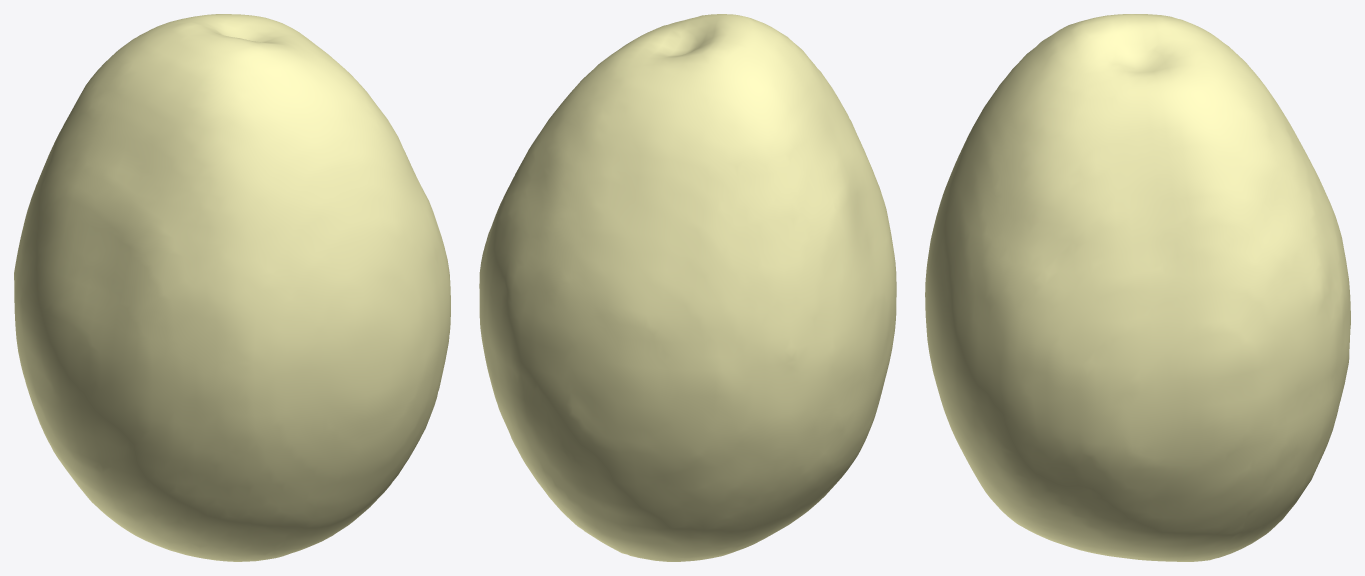
File: new_avacado4.glb
3 views of the same model, side by side, from view 1: azimuth 30°, elevation 25°; view 2: azimuth 150°, elevation 25°; view 3: azimuth 270°, elevation 25° (orthographic). The views are drawn at different scales.
Parts seen in each view (by area): view 1: Avocado_Skin; view 2: Avocado_Skin; view 3: Avocado_Skin.
Boxes of the visible parts, x1=… form: Avocado_Skin: x1=14, y1=14, x2=450, y2=561; Avocado_Skin: x1=479, y1=14, x2=896, y2=561; Avocado_Skin: x1=925, y1=14, x2=1350, y2=561.
Size of the model in its own units: 0.6682 by 0.9146 by 0.6829.
